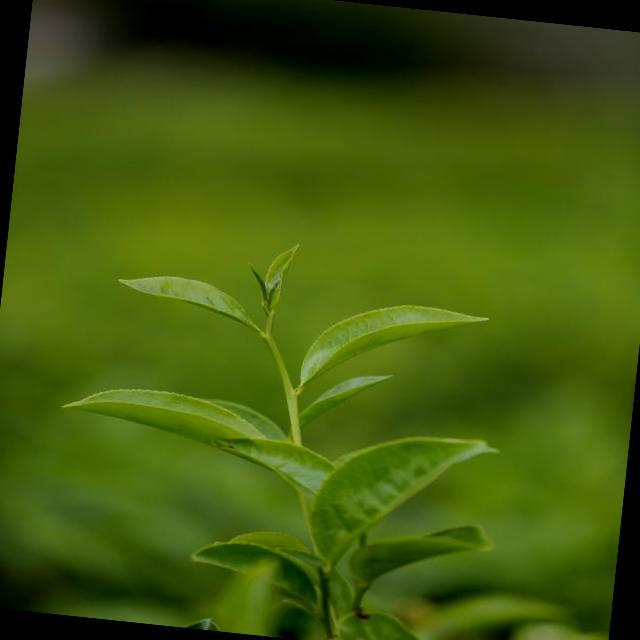Stem: (263, 335, 275, 347)
